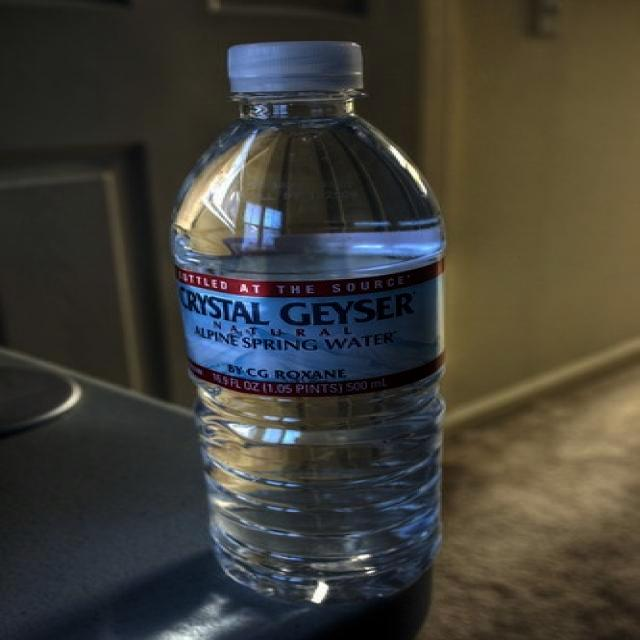bottle: (170, 41, 446, 604)
